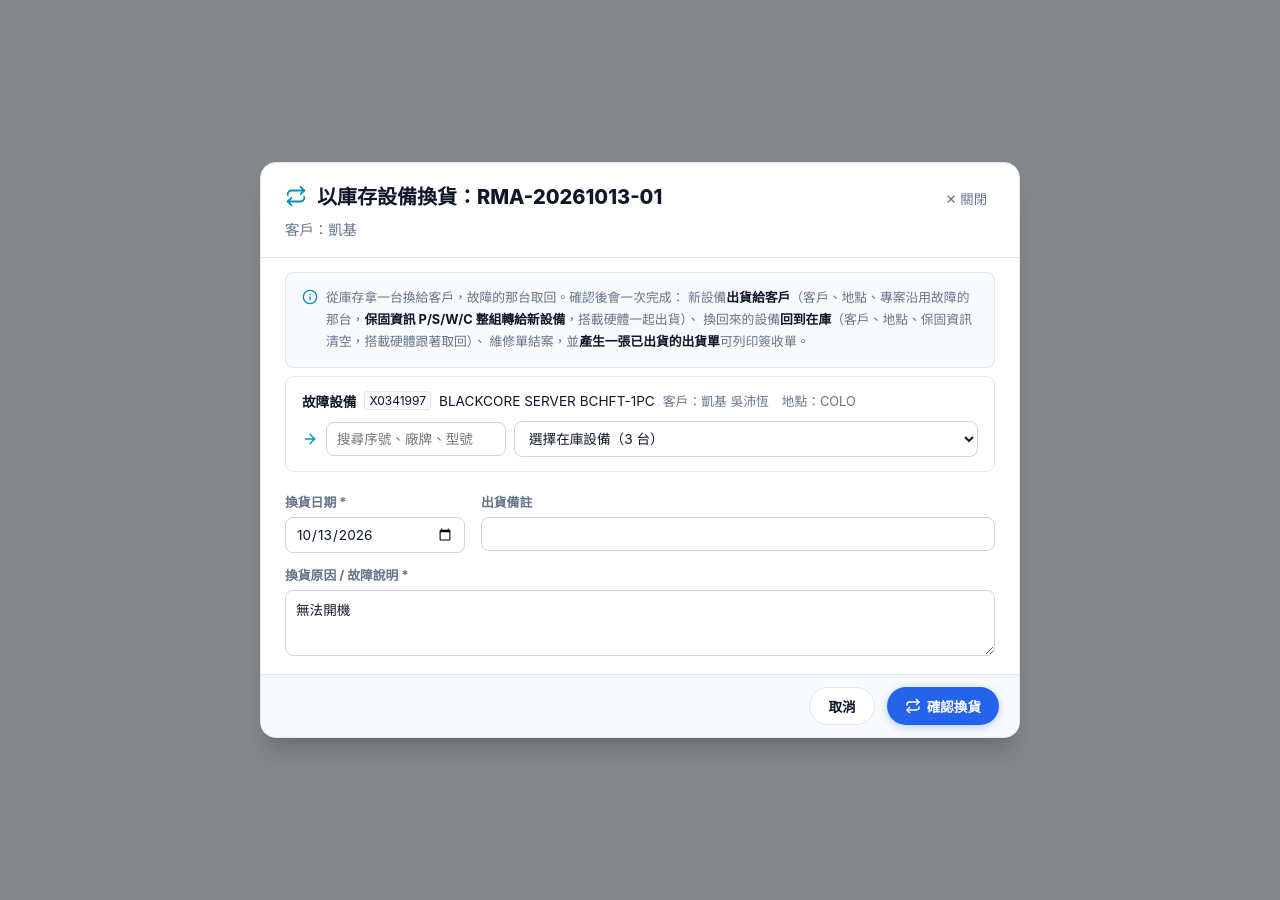
Test: 換貨視窗 › 沒選設備就說明，不送出
This screenshot has width=1280, height=900.
Click the button "確認換貨" at (943, 706), box [887,687,999,725]
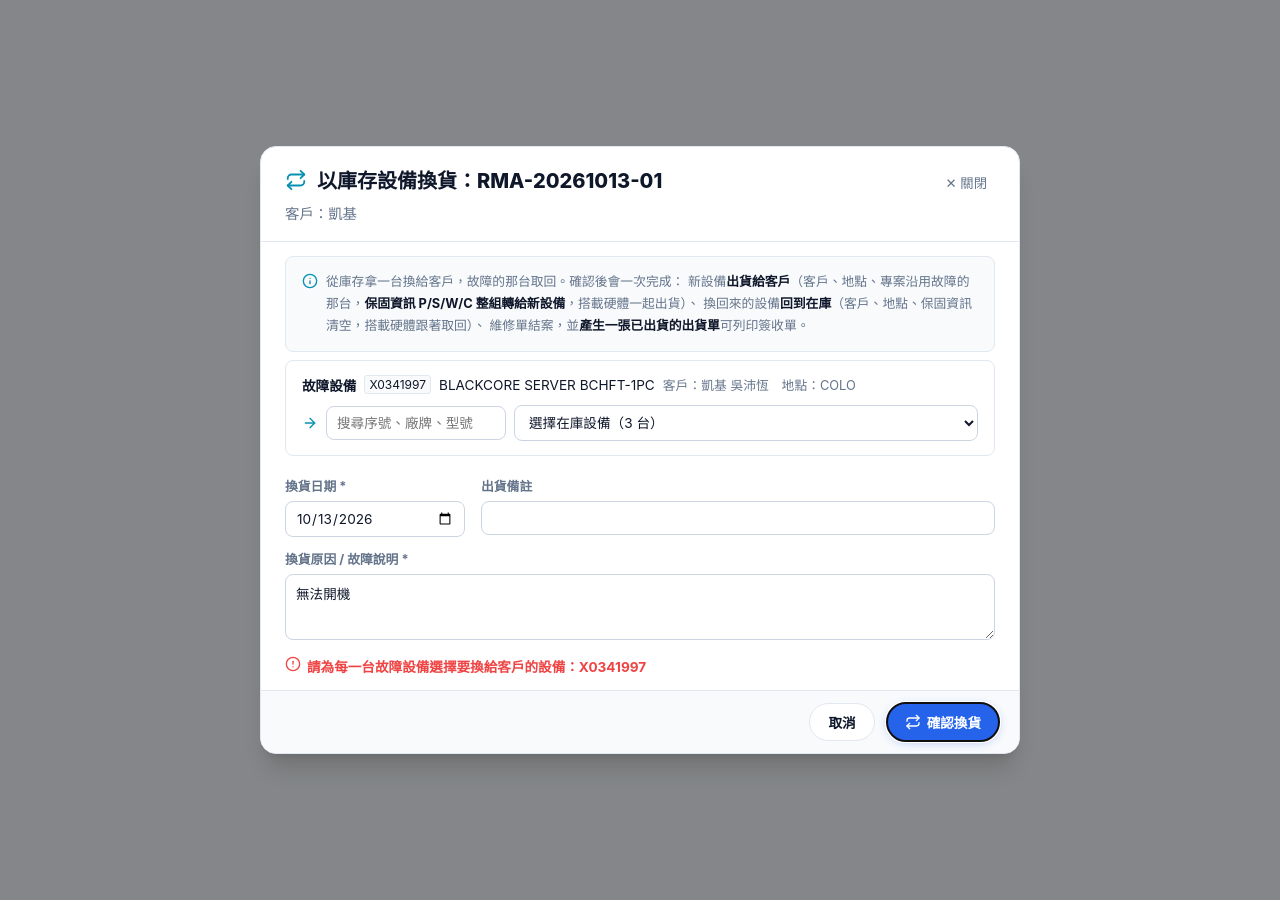
Check: the message shows "請為每一台故障設備選擇", box [307,659,646,675]
